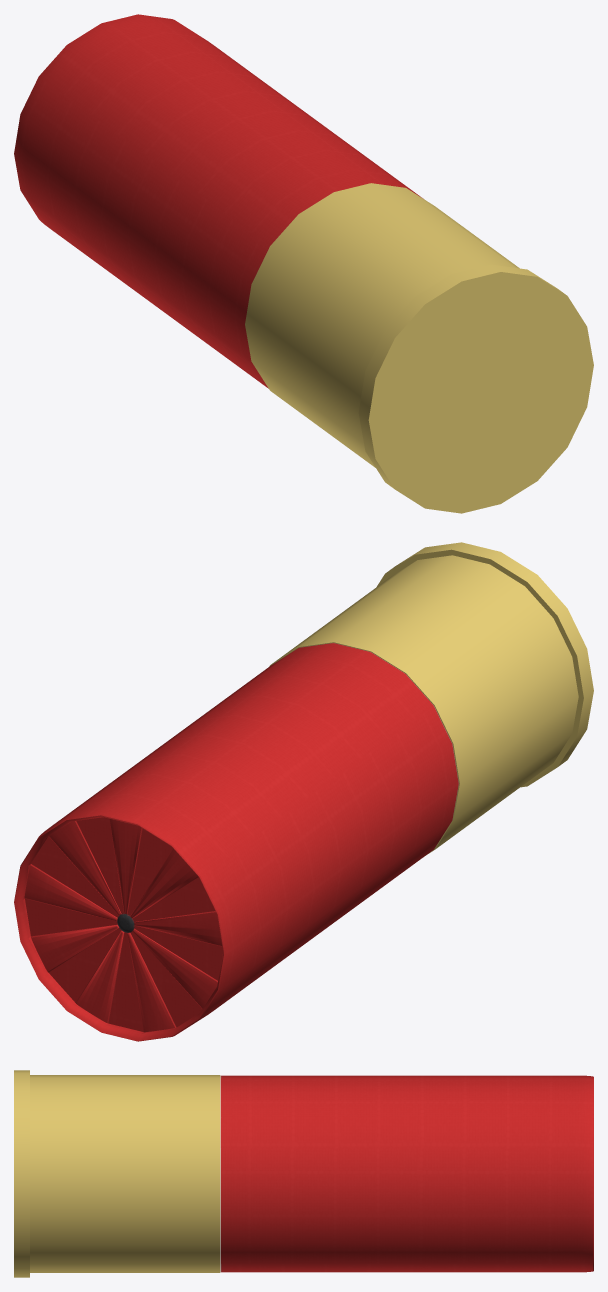
File: Shell.fbx
The picture shows the model from 3 angles, top to bottom: view 1: azimuth 30°, elevation 25°; view 2: azimuth 150°, elevation 25°; view 3: azimuth 270°, elevation 25°; orthographic projection. The views are drawn at different scales.
Parts seen in each view (by area): view 1: Shell001; view 2: Shell001; view 3: Shell001.
Boxes of the visible parts, x1,y1,x2,y2 form: Shell001: (14,14,593,513); Shell001: (14,542,593,1041); Shell001: (14,1070,593,1277).
Bounding box in the file's own units: 0.748 × 0.7367 × 2.08.
1 material, 1 textured.
